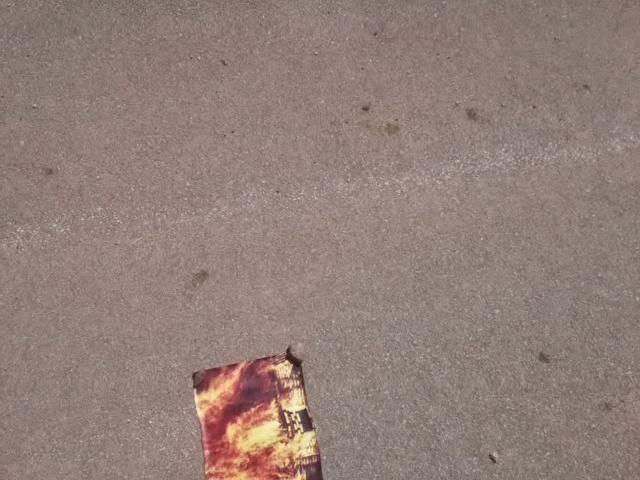fire-poster: (189, 343, 326, 479)
